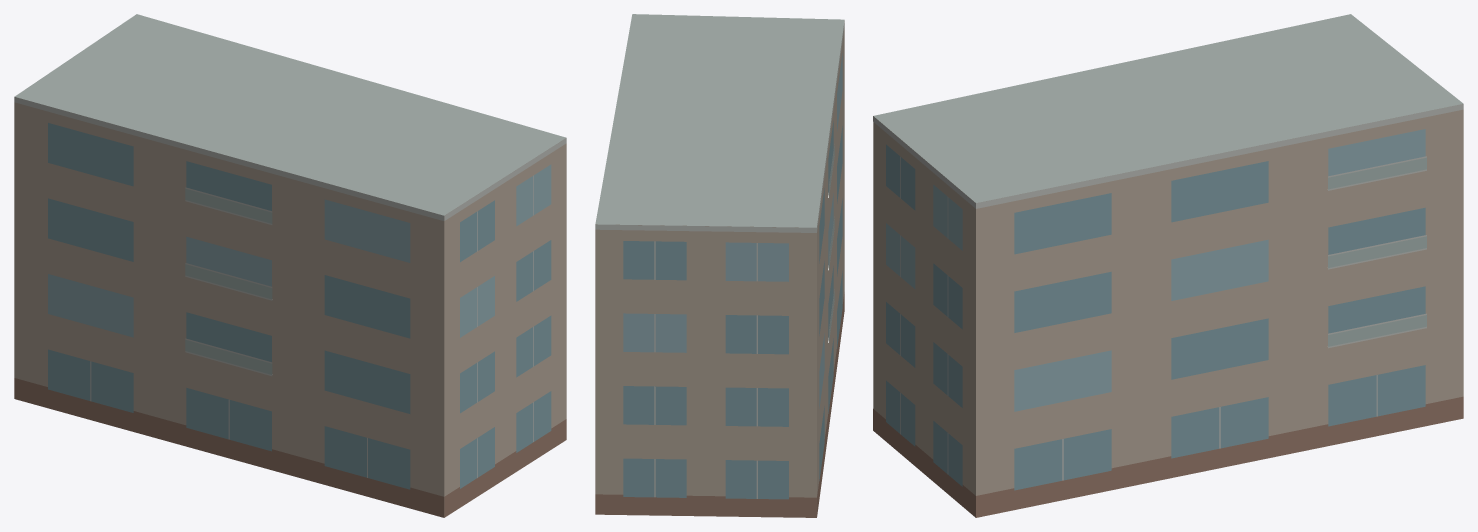
Rendered from survey-upis-32641488.glb.
3 views of the same model, side by side, from view 1: azimuth 30°, elevation 25°; view 2: azimuth 150°, elevation 25°; view 3: azimuth 270°, elevation 25° (orthographic). The views are drawn at different scales.
Parts seen in each view (by area): view 1: survey-upis-32641488.tmp; view 2: survey-upis-32641488.tmp; view 3: survey-upis-32641488.tmp.
Part boxes in pixels (x1,y1,x2,y2): survey-upis-32641488.tmp: (14,14,566,517); survey-upis-32641488.tmp: (595,14,844,517); survey-upis-32641488.tmp: (873,14,1463,517).
Size of the model in its own units: 17.15 by 13.3 by 22.63.
